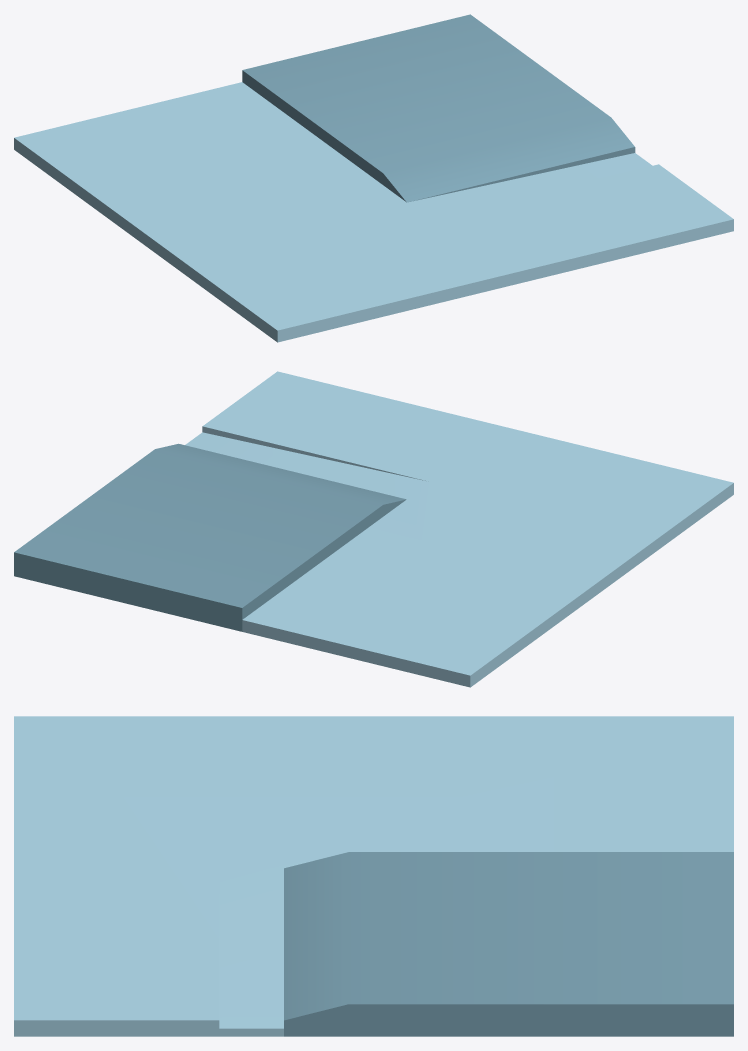
The model's file is roadCurbEnd.obj.
3 renders of one model, top to bottom at view 1: azimuth 30°, elevation 25°; view 2: azimuth 150°, elevation 25°; view 3: azimuth 270°, elevation 25°, orthographic. The views are drawn at different scales.
Visible parts, largest first — view 1: roadCurbEnd; view 2: roadCurbEnd; view 3: roadCurbEnd.
Boxes of the visible parts, x1,y1,x2,y2 form: roadCurbEnd: [14, 14, 733, 342]; roadCurbEnd: [14, 371, 733, 687]; roadCurbEnd: [14, 716, 733, 1036].
Size of the model in its own units: 1 by 0.05 by 1.
